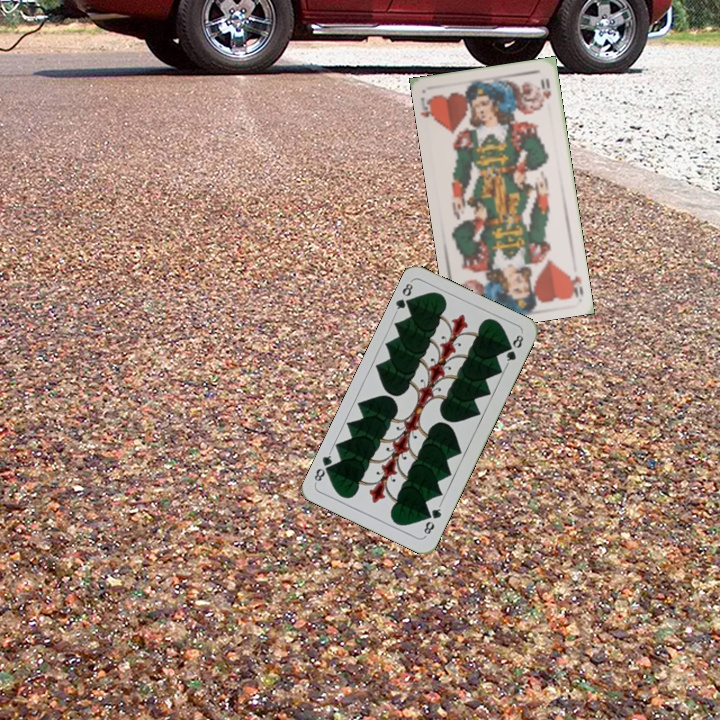G8: (391, 278, 416, 316), (420, 501, 444, 539)
HO: (416, 92, 438, 124), (564, 271, 586, 300)
